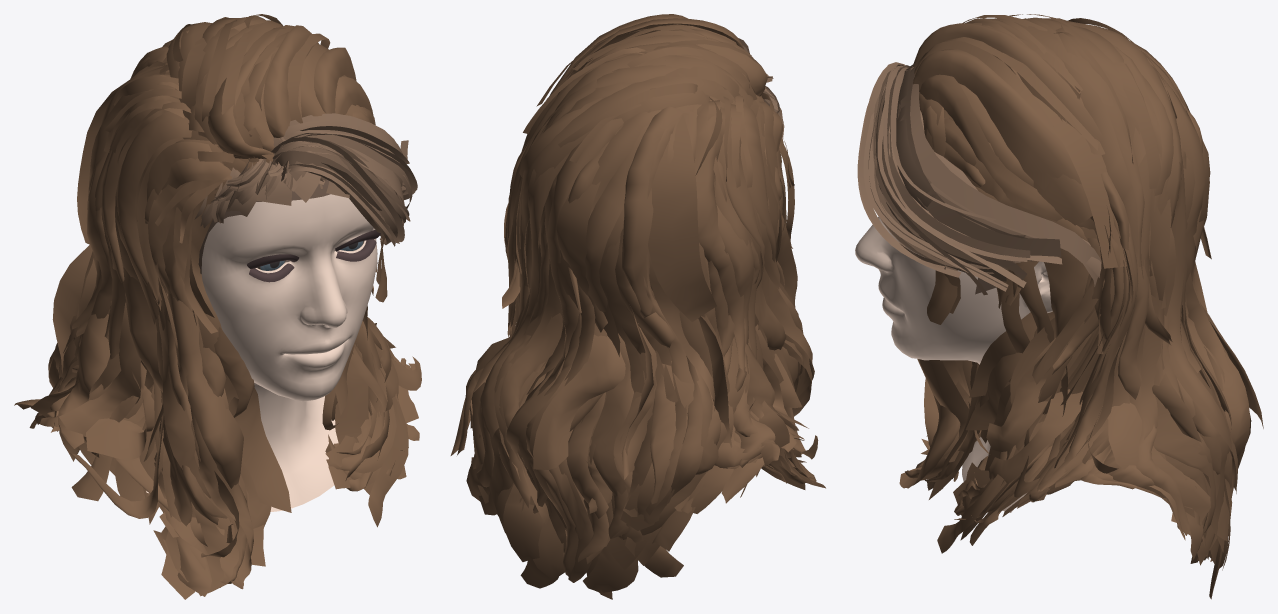
The model's file is frau.glb.
3 views of the same model, side by side, from view 1: azimuth 30°, elevation 25°; view 2: azimuth 150°, elevation 25°; view 3: azimuth 270°, elevation 25° (orthographic). The views are drawn at different scales.
Parts seen in each view (by area): view 1: hair, head, bangs, lashes; view 2: hair; view 3: hair, bangs, head.
Boxes of the visible parts, x1,y1,x2,y2 form: hair: (14,14,421,599); head: (146,194,377,511); bangs: (194,113,417,246); lashes: (247,230,380,282); hair: (450,14,825,599); hair: (899,14,1263,599); bangs: (857,62,1101,295); head: (855,216,1052,512).
Size of what is drawn, in the model's own units: 0.2729 by 0.4046 by 0.2699.
13 materials, 2 textured.
